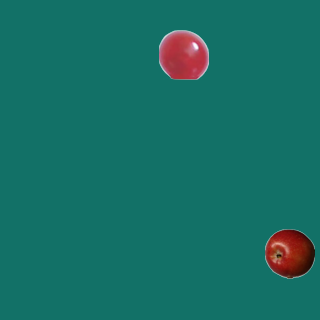Apple Braeburn: (264, 228, 314, 278)
Redcurrant: (158, 29, 208, 79)
